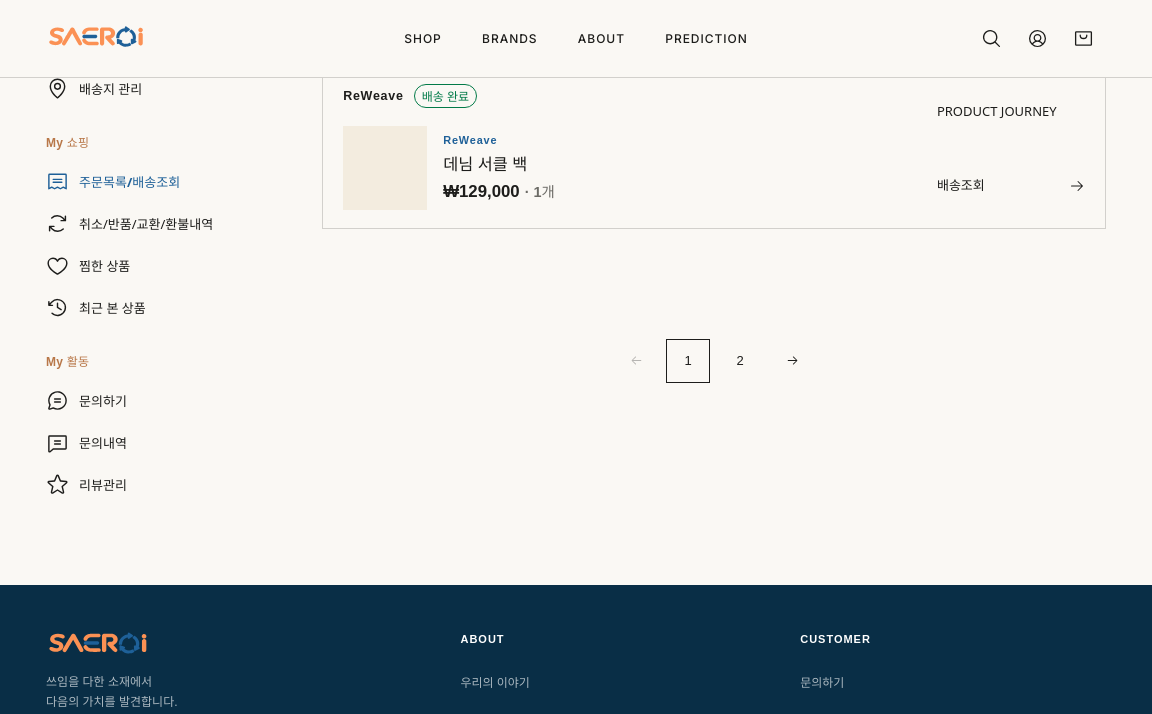
Test case: consumer mypage route › 주문이 20건을 넘으면 다음 페이지의 주문을 불러온다
(page scrolled)
Check: the heading "데님 서클 백" is shown, box [443,154,527,172]
Click the button named "다음 페이지" at (792, 360), box [770,338,814,382]
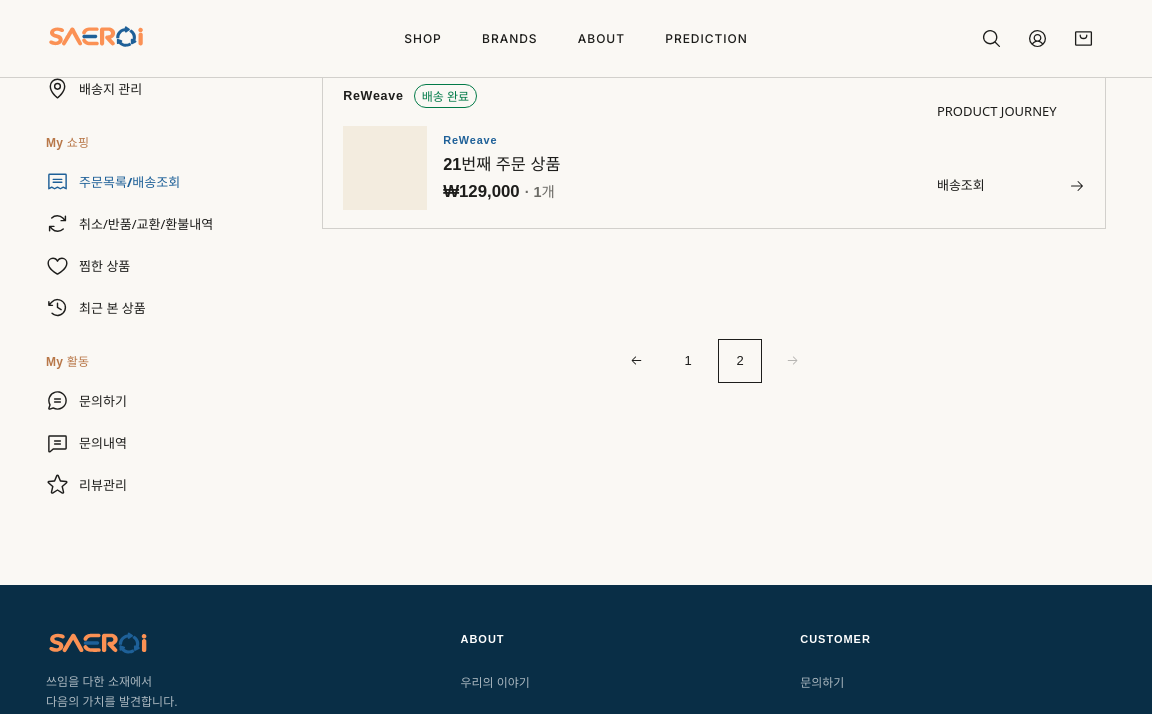
Check: the heading "21번째 주문 상품" is shown, box [443,154,560,172]
